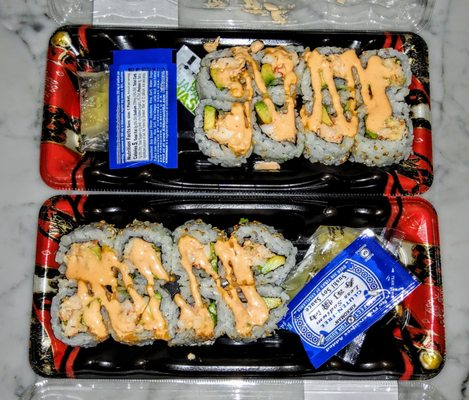burger: (281, 196, 444, 378)
